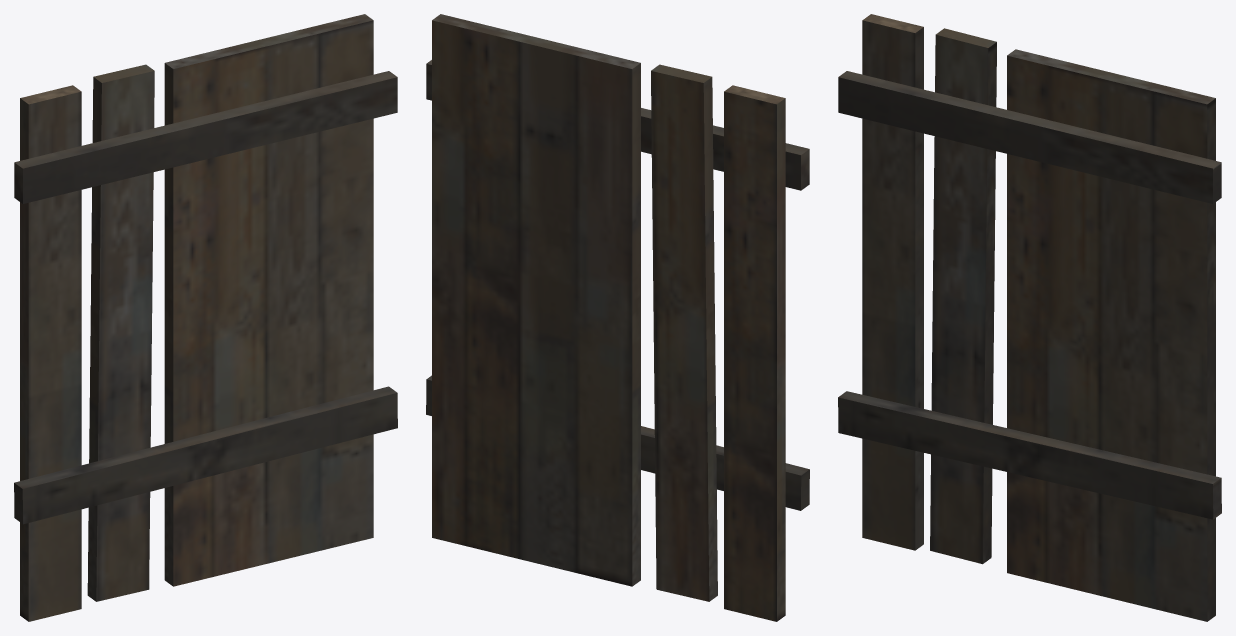
The model's file is bz_wood02.fbx.
The picture shows the model from 3 angles, left to right: view 1: azimuth 30°, elevation 25°; view 2: azimuth 150°, elevation 25°; view 3: azimuth 330°, elevation 25°; orthographic projection.
Visible parts, largest first — view 1: bz_wood02_01, bz_wood02_05, bz_wood02_03, bz_wood02_04, bz_wood02_02; view 2: bz_wood02_01, bz_wood02_05, bz_wood02_03, bz_wood02_04, bz_wood02_02; view 3: bz_wood02_01, bz_wood02_05, bz_wood02_03, bz_wood02_02, bz_wood02_04.
Part boxes in pixels (x1,y1,x2,y2): bz_wood02_01: [164, 14, 373, 586]; bz_wood02_05: [87, 64, 154, 601]; bz_wood02_03: [20, 85, 81, 621]; bz_wood02_04: [14, 386, 397, 524]; bz_wood02_02: [14, 71, 397, 203]; bz_wood02_01: [432, 14, 640, 586]; bz_wood02_05: [651, 64, 717, 601]; bz_wood02_03: [724, 85, 785, 621]; bz_wood02_04: [426, 375, 809, 510]; bz_wood02_02: [426, 60, 809, 190]; bz_wood02_01: [1007, 49, 1215, 621]; bz_wood02_05: [930, 28, 996, 564]; bz_wood02_03: [862, 14, 923, 550]; bz_wood02_02: [838, 71, 1221, 203]; bz_wood02_04: [838, 391, 1221, 519].
Size of the model in its own units: 0.9766 by 1.3 by 0.0803.
